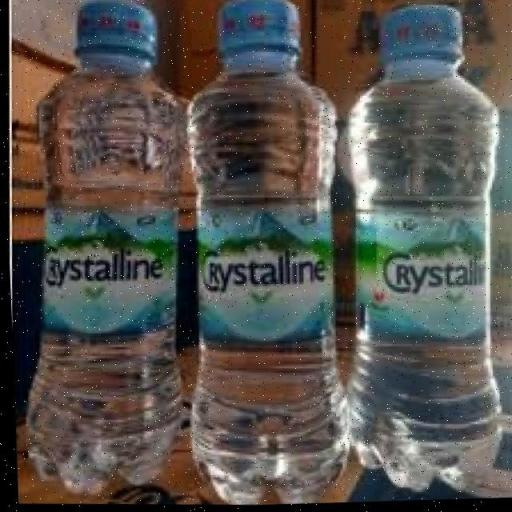plastic: (22, 0, 186, 500), (186, 0, 345, 506), (340, 6, 499, 497)
